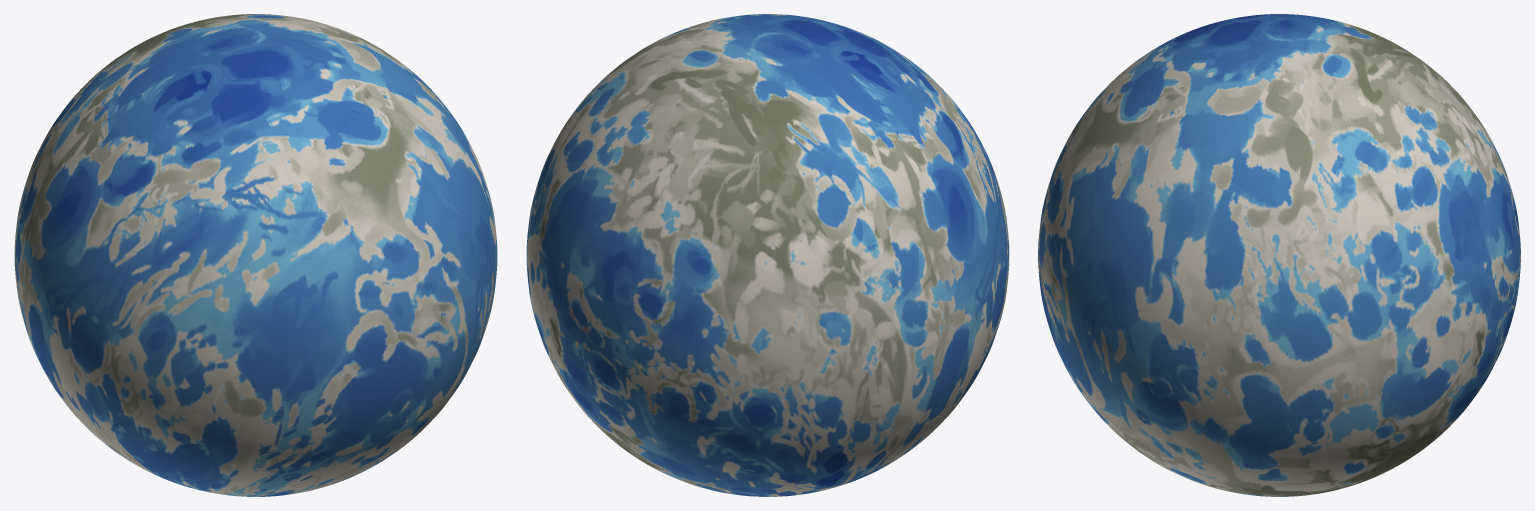
File: test_planet.glb
3 renders of one model, left to right at view 1: azimuth 30°, elevation 25°; view 2: azimuth 150°, elevation 25°; view 3: azimuth 270°, elevation 25°, orthographic.
Parts seen in each view (by area): view 1: Sphere; view 2: Sphere; view 3: Sphere.
Part boxes in pixels (x1,y1,x2,y2): Sphere: [14, 14, 497, 496]; Sphere: [526, 14, 1009, 496]; Sphere: [1038, 14, 1520, 496].
Bounding box in the file's own units: 2 × 2 × 2.
Materials: 1 (1 with a texture image).
